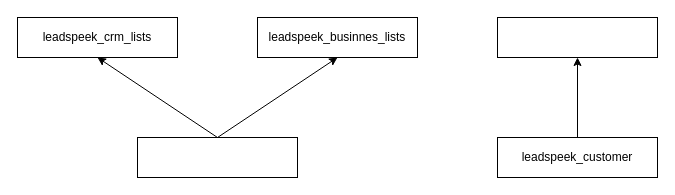
The diagram is 675 pixels wide and 195 high, and some of its shapes have lost their labels. Each missing label, with the centre of its shape:
leadspeek_media: the point at 577,37
leadspeek_users: the point at 217,157
